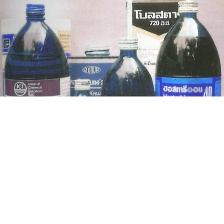book: (121, 0, 195, 125), (57, 53, 130, 131)
insecticide: (2, 0, 74, 139), (154, 0, 223, 143), (98, 33, 154, 142), (64, 77, 97, 147)
